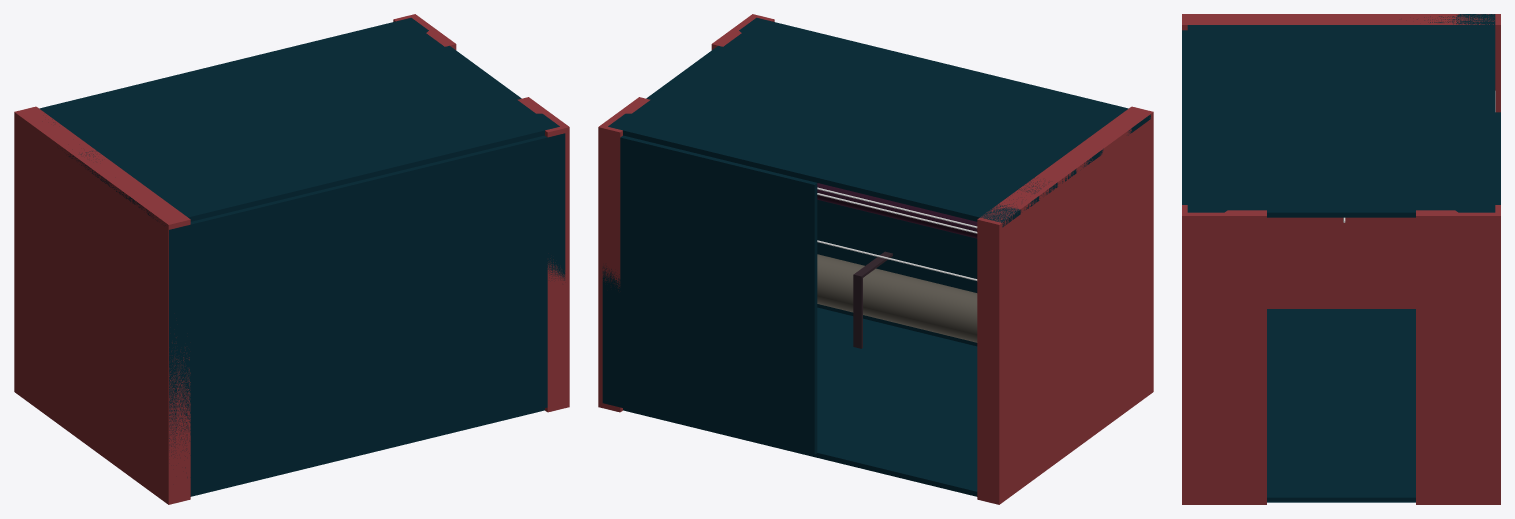
The model's file is ladocortado.fbx.
3 renders of one model, left to right at view 1: azimuth 30°, elevation 25°; view 2: azimuth 150°, elevation 25°; view 3: azimuth 270°, elevation 25°, orthographic. The views are drawn at different scales.
Parts seen in each view (by area): view 1: Cube.017, Cube.015, Cube.011, Cube.010, Cube.013, Cube.016; view 2: Cube.015, Cube.014, Cube.011, Cube.016, Cube.017, Cylinder.021, Cube.010, Cube.012, Cylinder.018, Cube.008; view 3: Cube.015, Cube.016, Cube.013, Cube.012, Cube.011, Cube.017, Cube.014.
Part boxes in pixels (x1,y1,x2,y2): Cube.017: (169, 133, 565, 494); Cube.015: (39, 17, 559, 225); Cube.011: (14, 106, 190, 504); Cube.010: (127, 195, 190, 504); Cube.013: (517, 97, 569, 412); Cube.016: (190, 408, 544, 496); Cube.015: (608, 17, 1150, 227); Cube.014: (602, 135, 817, 454); Cube.011: (977, 106, 1153, 504); Cube.016: (623, 307, 977, 496); Cube.017: (817, 199, 977, 346); Cylinder.021: (817, 254, 977, 342); Cube.010: (1116, 112, 1153, 399); Cube.012: (598, 97, 650, 412); Cylinder.018: (817, 183, 977, 238); Cube.008: (853, 251, 892, 348); Cube.015: (1187, 14, 1495, 217); Cube.016: (1267, 309, 1415, 502); Cube.013: (1182, 205, 1266, 504); Cube.012: (1416, 205, 1500, 504); Cube.011: (1182, 14, 1500, 308); Cube.017: (1182, 30, 1187, 204); Cube.014: (1495, 112, 1500, 204).
Bounding box in the file's own units: 956 × 638 × 638.
Materials: 1 (1 with a texture image).
